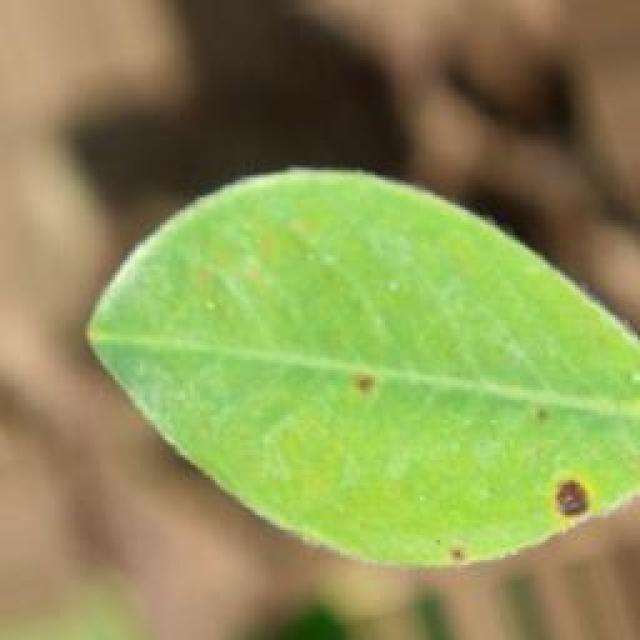Sigatoka: (525, 478, 640, 552), (430, 527, 505, 583), (488, 384, 549, 452), (331, 357, 393, 422)
